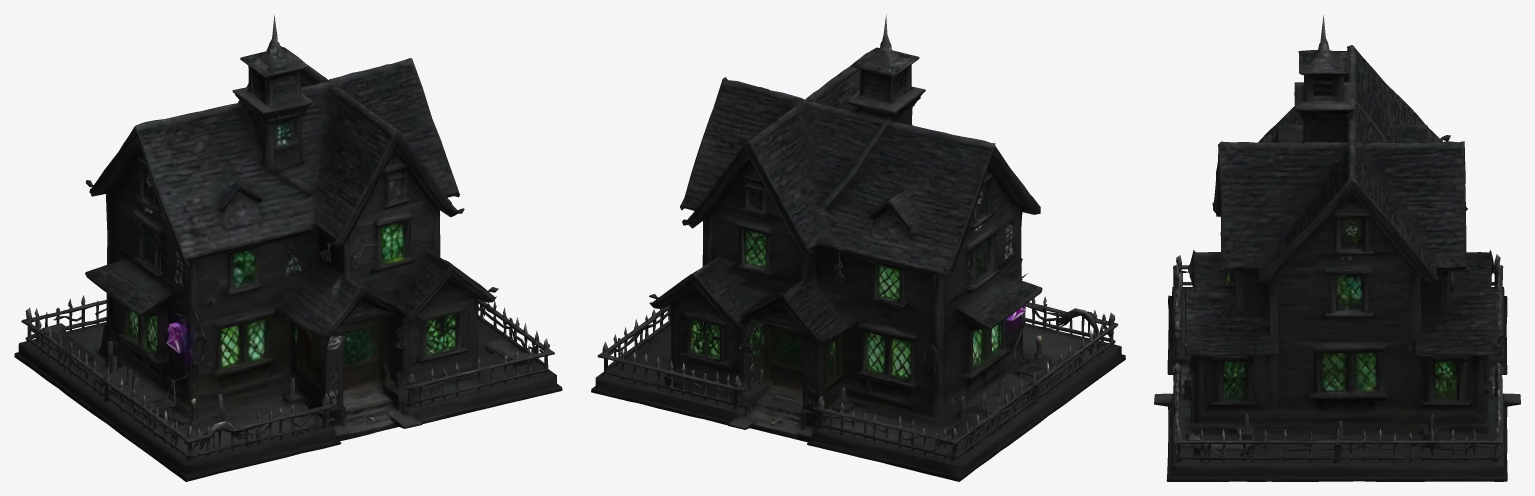
File: lm_salem.glb
3 renders of one model, left to right at view 1: azimuth 30°, elevation 25°; view 2: azimuth 150°, elevation 25°; view 3: azimuth 270°, elevation 25°, orthographic. The views are drawn at different scales.
Parts seen in each view (by area): view 1: tripo_node_8fb8a3b6-2044-44df-ae28-183981811ebd; view 2: tripo_node_8fb8a3b6-2044-44df-ae28-183981811ebd; view 3: tripo_node_8fb8a3b6-2044-44df-ae28-183981811ebd.
Part boxes in pixels (x1,y1,x2,y2): tripo_node_8fb8a3b6-2044-44df-ae28-183981811ebd: (14, 15, 562, 481); tripo_node_8fb8a3b6-2044-44df-ae28-183981811ebd: (591, 14, 1125, 481); tripo_node_8fb8a3b6-2044-44df-ae28-183981811ebd: (1154, 15, 1520, 481).
Bounding box in the file's own units: 0.9788 × 0.9184 × 0.8318.
1 material, 1 textured.
